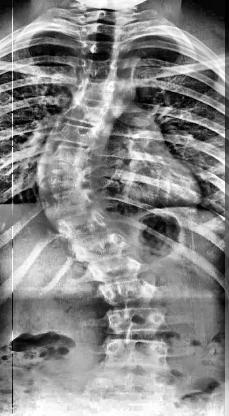Vertebrae: (101, 334, 172, 372), (65, 229, 136, 265), (50, 210, 119, 242), (30, 162, 96, 194), (86, 252, 152, 284), (36, 188, 106, 218), (103, 306, 170, 336), (34, 138, 96, 168), (98, 277, 162, 306), (46, 119, 106, 147), (61, 97, 113, 125), (72, 55, 124, 81), (70, 77, 122, 103), (75, 37, 126, 59), (77, 9, 127, 27), (76, 23, 126, 41)
